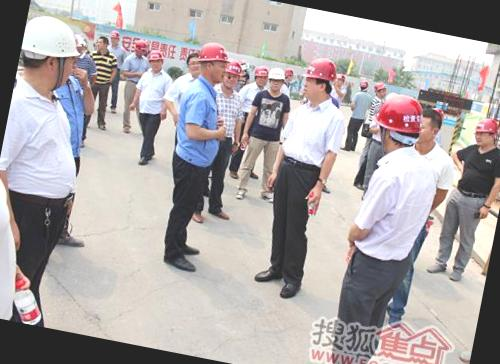no_helmet: (412, 105, 446, 152), (184, 50, 204, 78), (90, 32, 114, 54)
